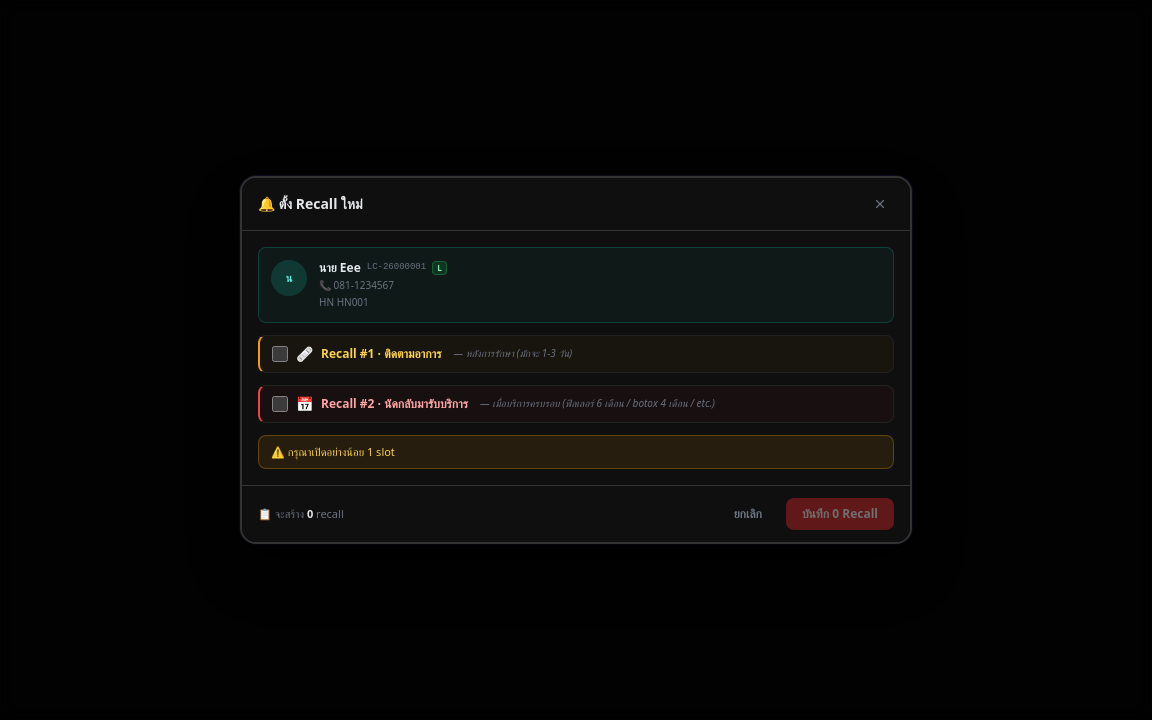
Phase 29 · M3 footer summary › M3.3 both on → "จะสร้าง 2 recall"
Click the checkbox with test id "recall-slot-aftercare-toggle".
click(280, 354)  # box [272,346,288,362]
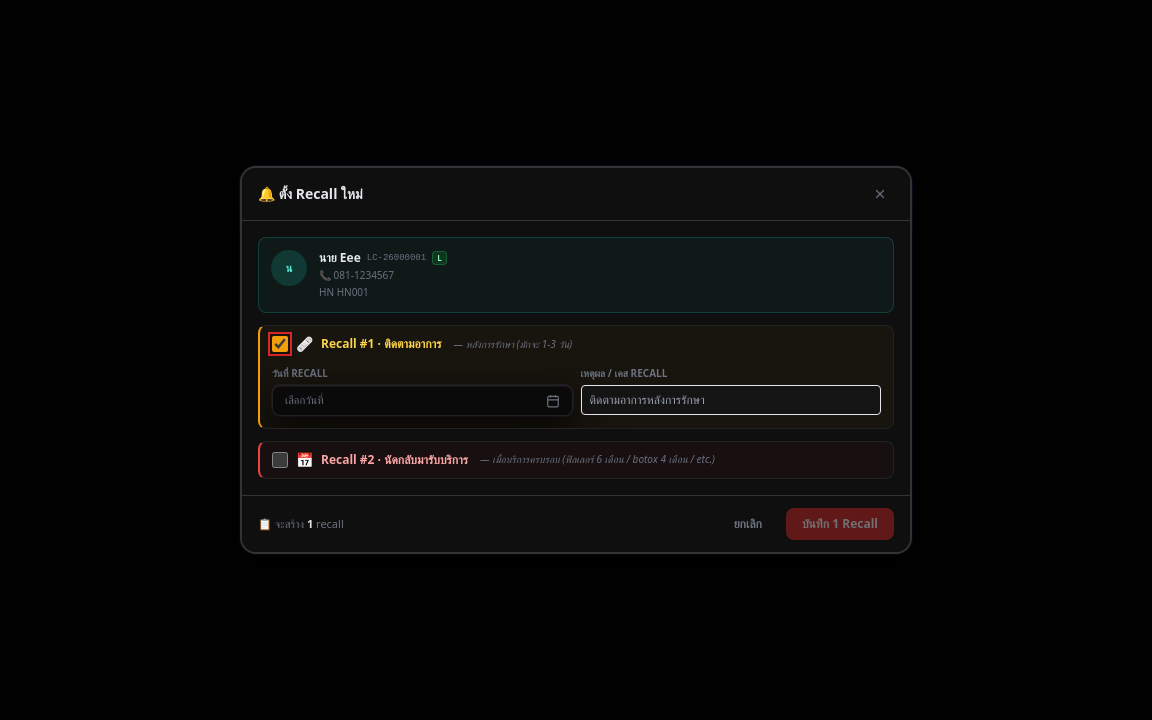
Click the checkbox with test id "recall-slot-revisit-toggle".
click(280, 460)  # box [272,452,288,468]
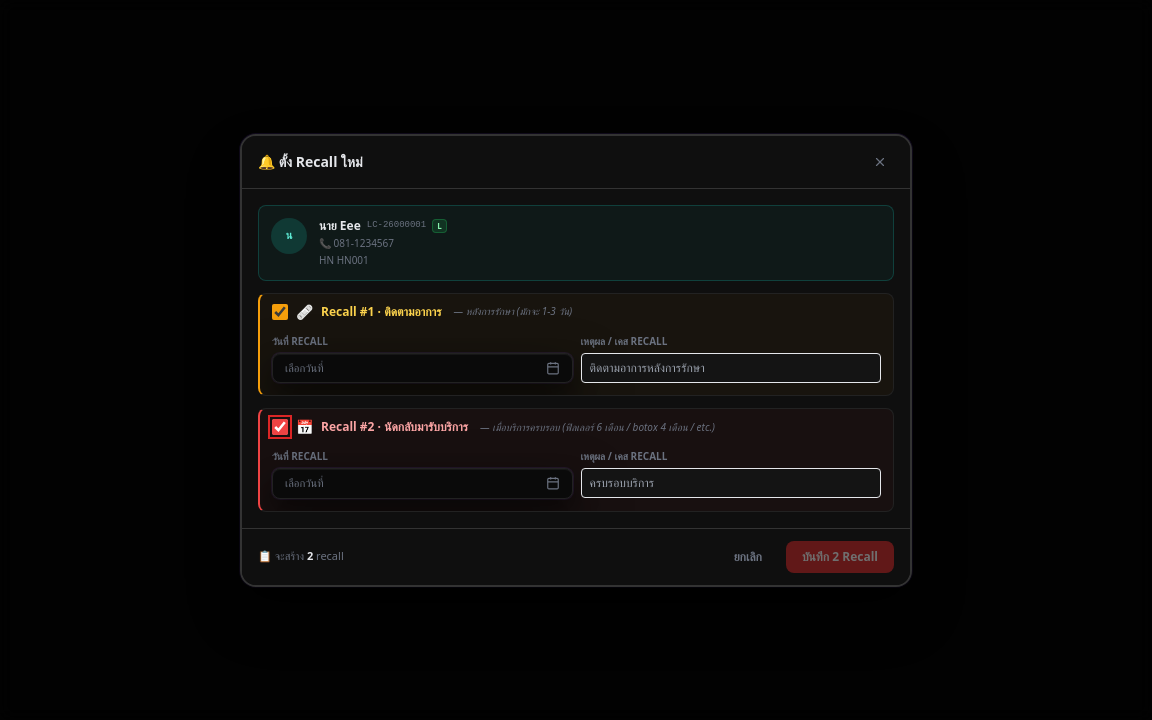
Expected: the element with test id "recall-create-summary" shows "2", [307,548,313,563]
